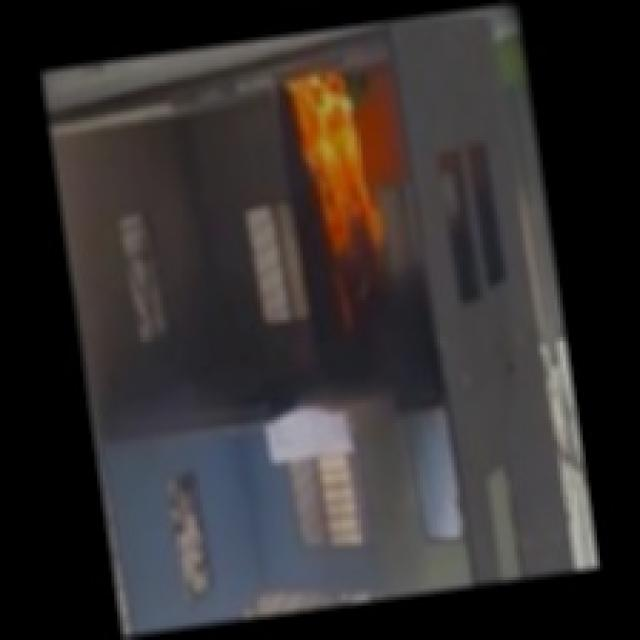fire: (278, 61, 396, 293)
